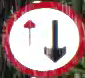Two way: (4, 0, 84, 77)
